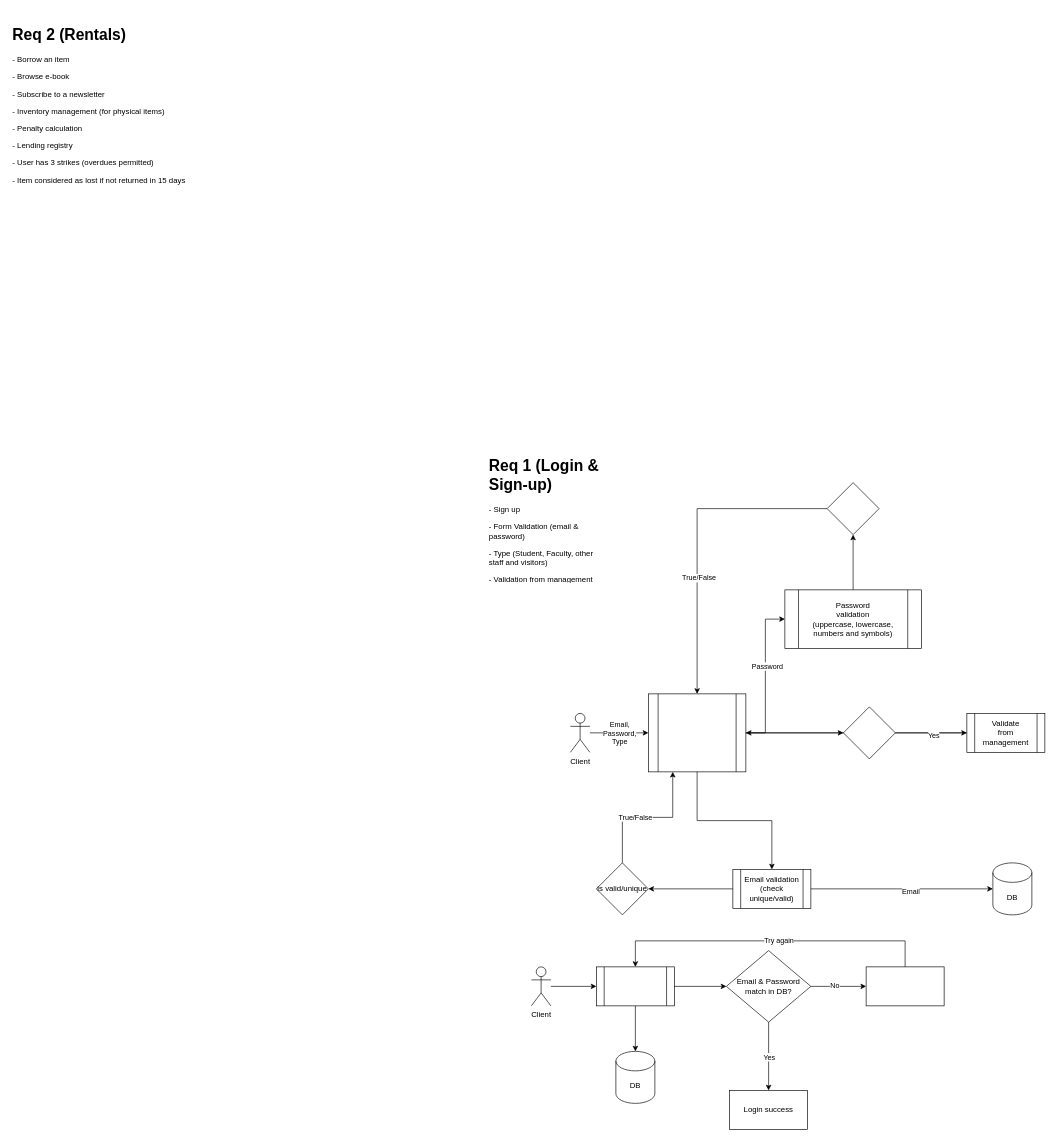
Some shapes in this 1056 by 1141 pixel diagram are drawn without their labels. The shapes that lost their labels are listed below. From the top down, each one's centre as x and y in pixels, then its label:
the point at 852,508: Is valid
the point at 697,732: User enters information in Signup Form
the point at 869,732: Is non-visitor
the point at 635,986: Login Form
the point at 904,986: Login failed
